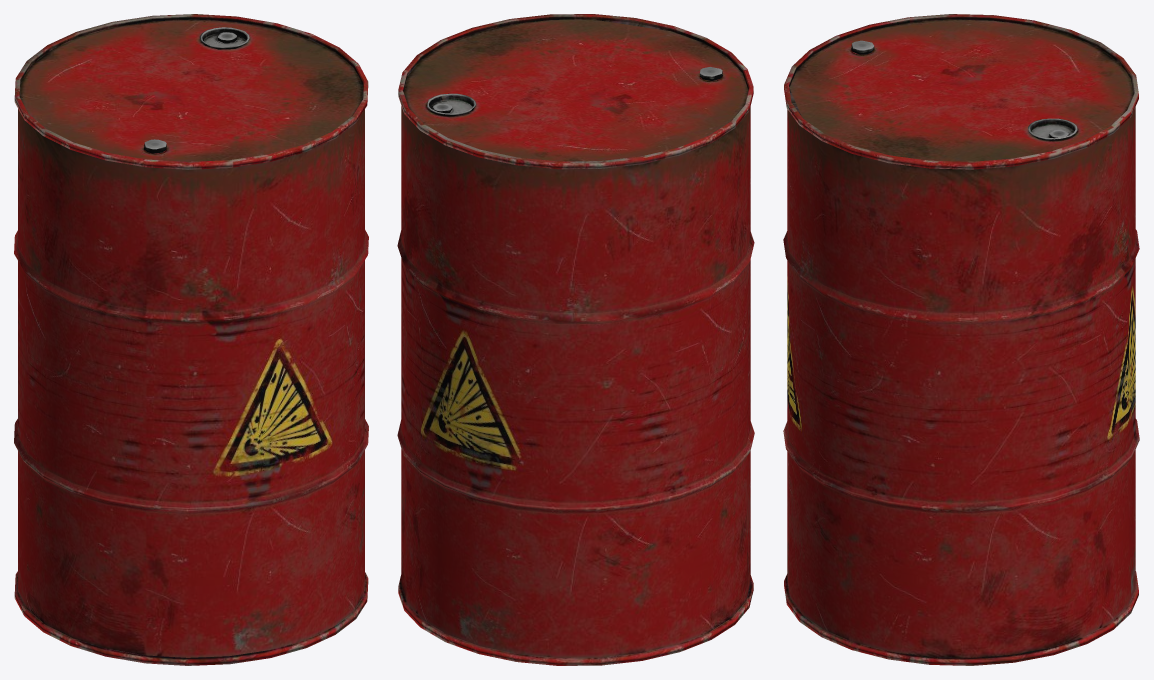
Rendered from Barrel_01.gltf.
3 views of the same model, side by side, from view 1: azimuth 30°, elevation 25°; view 2: azimuth 150°, elevation 25°; view 3: azimuth 270°, elevation 25° (orthographic).
Parts seen in each view (by area): view 1: Barrel_01; view 2: Barrel_01; view 3: Barrel_01.
Boxes of the visible parts, box(x1,y1,x2,y2) form: Barrel_01: box(14, 14, 368, 665); Barrel_01: box(397, 14, 754, 665); Barrel_01: box(783, 14, 1139, 665).
Bounding box in the file's own units: 0.5627 × 0.8789 × 0.5627.
Materials: 1 (1 with a texture image).
